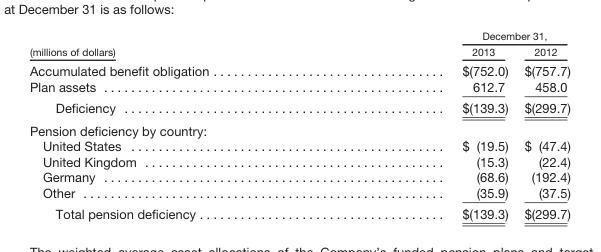table: (28, 29, 569, 220)
table column: (28, 29, 334, 220), (334, 29, 515, 220), (515, 29, 569, 220)
table column header: (28, 29, 569, 60)
table projected row header: (28, 118, 569, 138)
table row: (28, 96, 569, 118), (28, 118, 569, 138), (28, 60, 569, 78), (28, 78, 569, 96), (28, 184, 569, 202), (28, 202, 569, 220), (28, 43, 569, 60), (28, 153, 569, 169), (28, 138, 569, 153), (28, 169, 569, 184), (28, 29, 569, 43)
table spanning cell: (28, 29, 334, 60), (334, 29, 569, 43)
